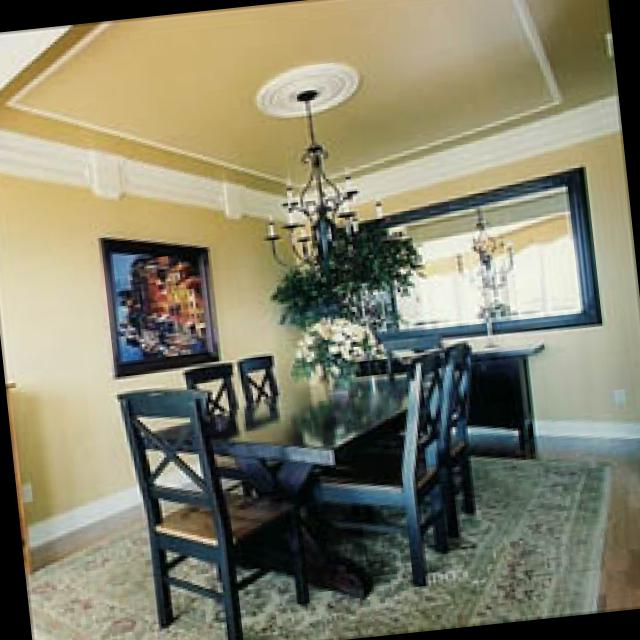bouquet: (290, 320, 389, 397)
buffet: (472, 339, 543, 442)
ceiling beam: (0, 0, 615, 192)
ceiling lamps: (274, 84, 388, 263)
chair: (187, 359, 241, 412), (241, 352, 282, 400)
chair -occluded-: (124, 385, 312, 640), (317, 347, 449, 583), (439, 337, 478, 531)
mirror crop: (335, 164, 604, 335)
painting crop: (102, 235, 223, 376)
plant -x: (273, 217, 427, 327)
rug -partially obscured-: (254, 455, 614, 640), (35, 517, 247, 640)
table -X: (146, 377, 452, 595)
wall outlets: (611, 382, 628, 404), (23, 476, 37, 499)
